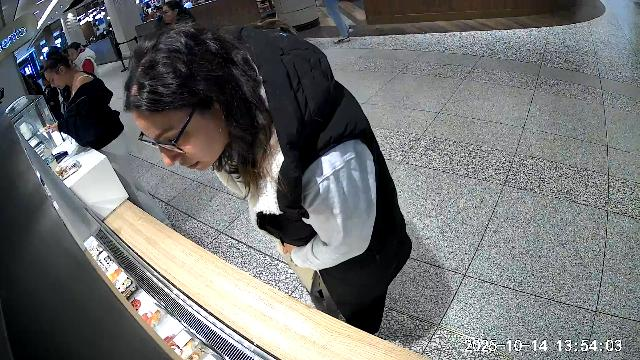sushi-box: (55, 161, 80, 180)
